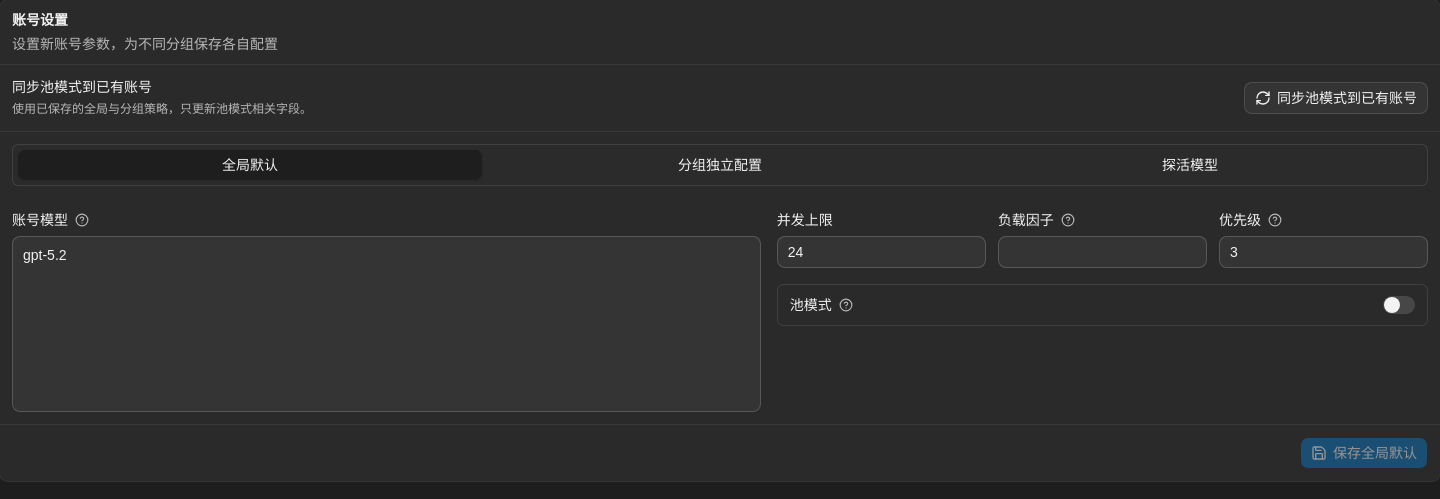
Test: 账号创建设置卡片 › 提交无效并发时标记字段并展示可见错误
Clear the number field named "全局默认 并发上限": (881, 252) left=777, top=236, right=986, bottom=268
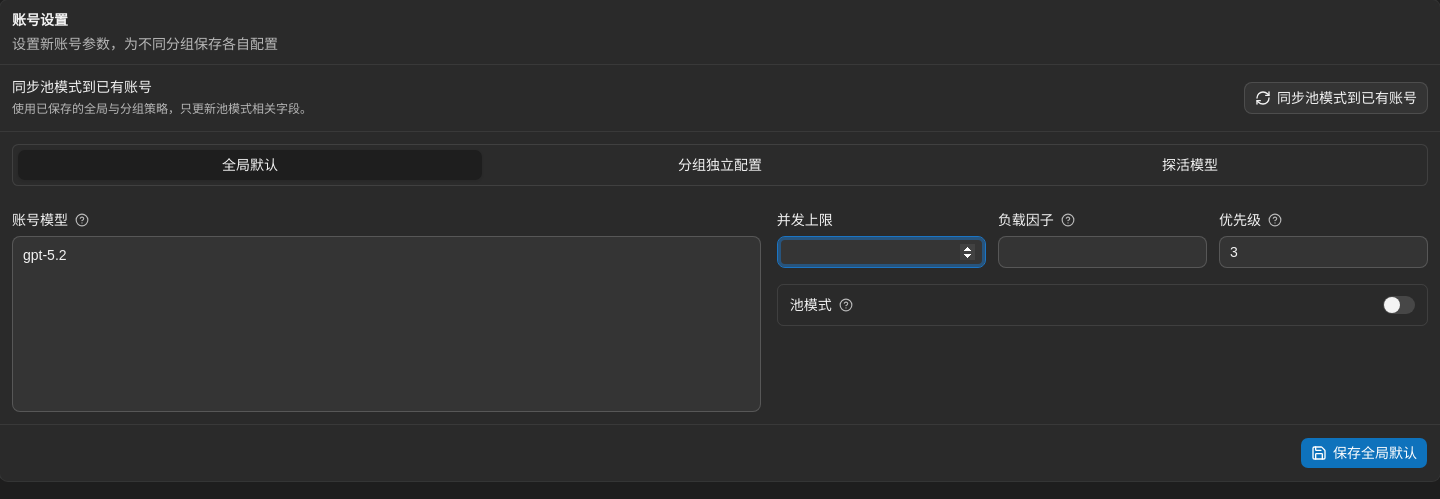
Click the button "保存全局默认": (1364, 453) left=1300, top=437, right=1428, bottom=469
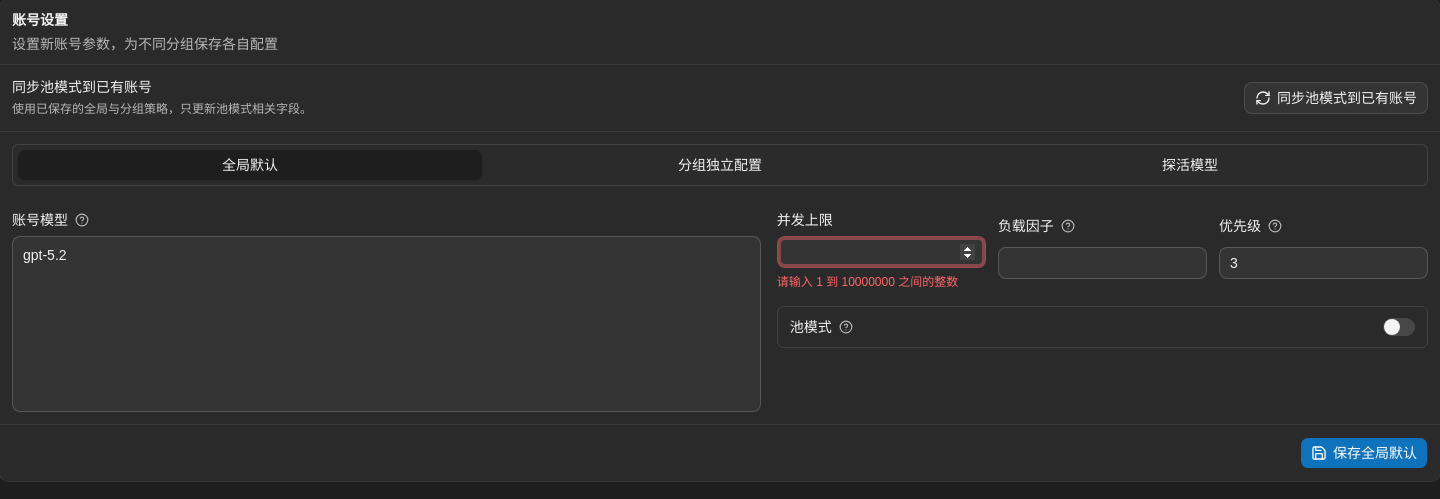
Check: the text "请输入 1 到 10000000 之间的整数" is shown, box left=777, top=274, right=986, bottom=290
